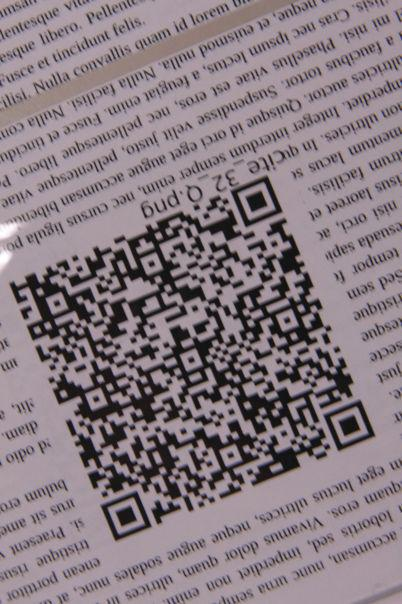Finder pattern: (230, 173, 285, 231), (99, 490, 156, 545), (322, 398, 383, 449)
